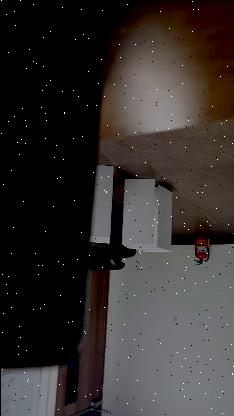Can: (0, 32, 92, 358)
